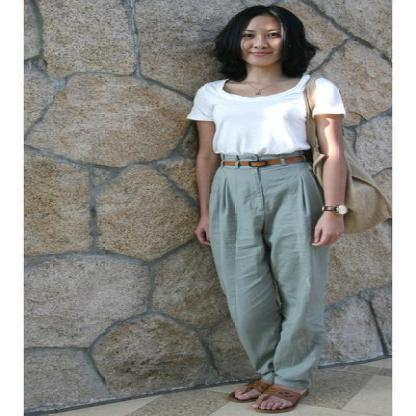pants: (201, 158, 337, 390)
shirt: (187, 75, 344, 161)
shoe: (226, 380, 308, 416)
